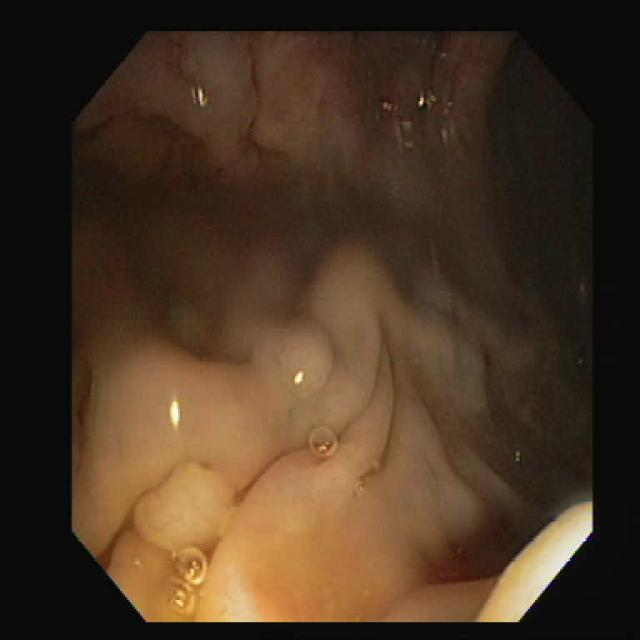tumor: (127, 462, 233, 553), (270, 320, 332, 393)
